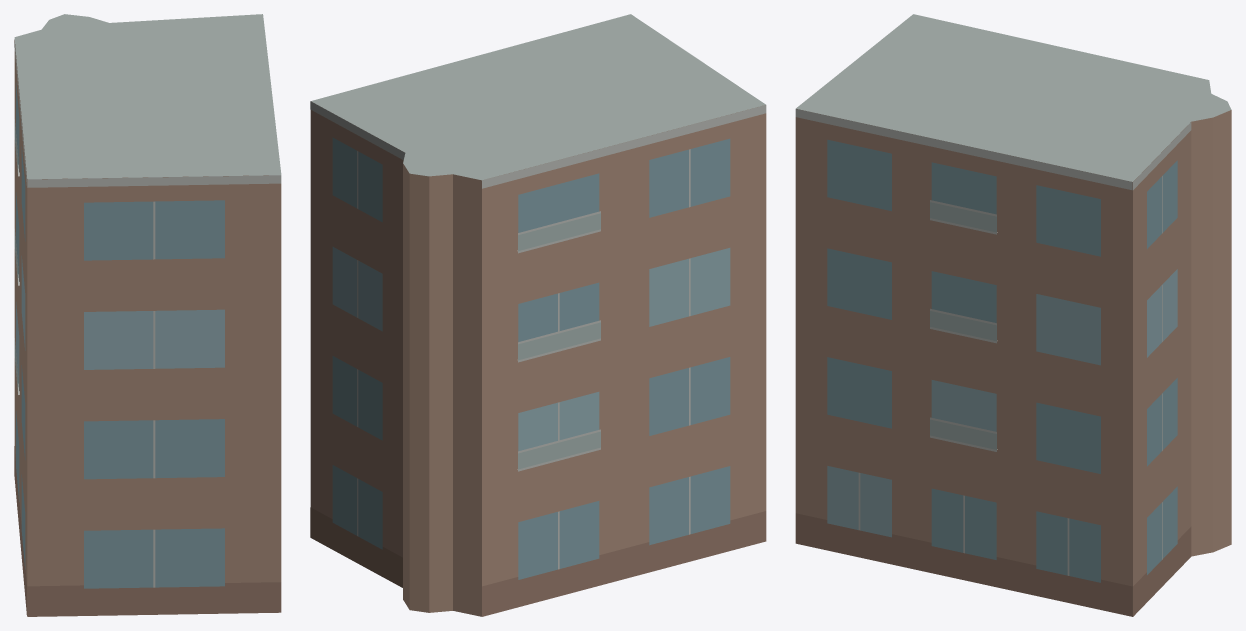
Rendered from survey-upis-32727008.glb.
The picture shows the model from 3 angles, left to right: view 1: azimuth 30°, elevation 25°; view 2: azimuth 150°, elevation 25°; view 3: azimuth 270°, elevation 25°; orthographic projection.
Visible parts, largest first — view 1: survey-upis-32727008.tmp; view 2: survey-upis-32727008.tmp; view 3: survey-upis-32727008.tmp.
Part boxes in pixels (x1=…): survey-upis-32727008.tmp: x1=14, y1=14, x2=281, y2=616; survey-upis-32727008.tmp: x1=310, y1=14, x2=766, y2=616; survey-upis-32727008.tmp: x1=795, y1=14, x2=1231, y2=616.
Bounding box in the file's own units: 10.45 × 12.6 × 11.45.
